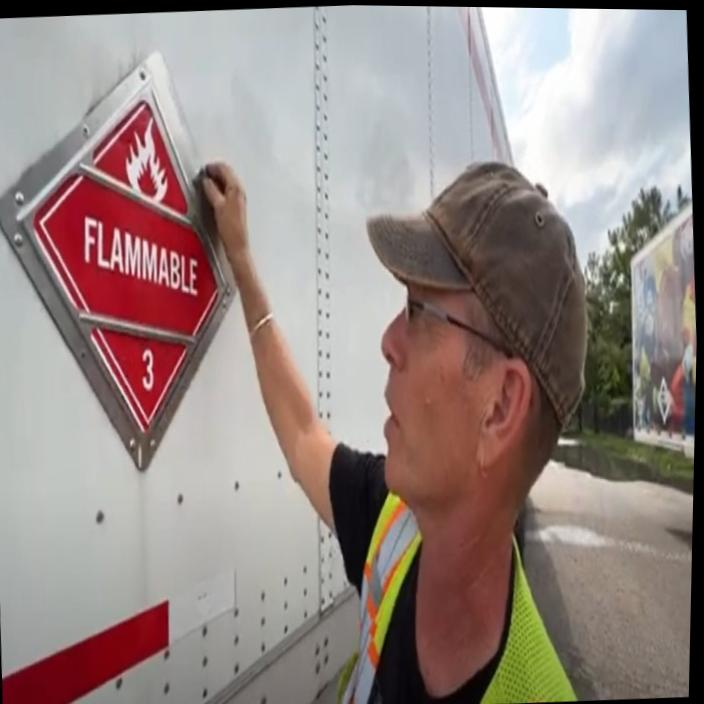can and bottle trash cans: (0, 54, 233, 469)
